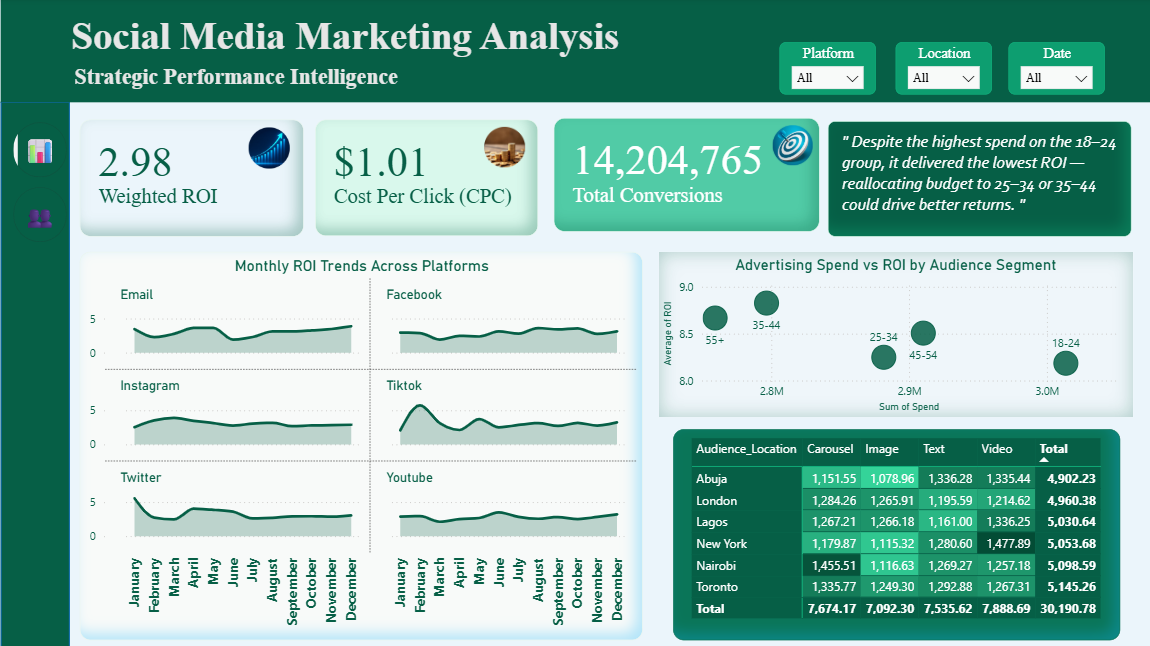

Layout of this report page (visuals, bound fields, positions):
{"tool":"powerbi","page":{"name":"📊","canvas":[1280,720],"ordinal":0},"visuals":[{"type":"shape","box":[11.5,116.3,76.1,604.3],"z":0},{"type":"group","id":"g1","title":"Group 1","box":[357.2,134.2,245.9,128.6],"z":0,"group":"g5"},{"type":"multiRowCard","fields":{"Values":["Sheet1.CPC_KPI"]},"box":[357.2,134.2,245.9,128.6],"z":0,"group":"g1"},{"type":"group","id":"g2","title":"Group 2","box":[620.3,134.2,292.7,125.5],"z":0,"group":"g6"},{"type":"group","id":"g3","title":"Group 1","box":[620.3,134.2,292.7,125.5],"z":0,"group":"g2"},{"type":"multiRowCard","fields":{"Values":["Sum(Sheet1.Conversions)"]},"box":[620.3,134.2,292.7,125.5],"z":0,"group":"g3"},{"type":"multiRowCard","fields":{"Values":["Sheet1.Weighted ROI"]},"box":[97.6,134.9,246.9,129.2],"z":0,"group":"g4"},{"type":"shape","box":[11.5,0,1268.9,116.3],"z":1000},{"type":"image","box":[856,134,54,60],"z":1000,"group":"g6"},{"type":"image","box":[538,134.2,55,60.8],"z":1000,"group":"g5"},{"type":"image","box":[279.1,134.9,55.2,62.8],"z":1000,"group":"g4"},{"type":"pageNavigator","box":[18.7,127.8,64.6,153.6],"z":2000},{"type":"textbox","box":[83.3,14.4,641.6,70.3],"z":3000},{"type":"textbox","box":[87.6,68.9,647.4,47.4],"z":4000},{"type":"slicer","title":"Platform","fields":{"Values":["Sheet1.Platform"]},"box":[868.4,50.2,106.2,57.4],"z":5000},{"type":"slicer","title":"Location","fields":{"Values":["Sheet1.Audience_Location"]},"box":[996.2,50.2,106.2,57.4],"z":6000},{"type":"slicer","title":"Date","fields":{"Values":["Calendar.Month"]},"box":[1119.6,50.2,106.2,57.4],"z":7000},{"type":"scatterChart","fields":{"X":["Sum(Sheet1.Spend)"],"Y":["Avg(Sheet1.ROI)"],"Category":["Sheet1.Audience_AgeGroup"]},"box":[734.9,281.3,522.5,182.3],"z":8000},{"type":"areaChart","fields":{"Category":["Calendar.Month"],"Y":["Sheet1.Weighted ROI"],"Rows":["Sheet1.Platform"]},"box":[97.6,281.3,620.1,427.8],"z":9000},{"type":"pivotTable","fields":{"Rows":["Sheet1.Audience_Location"],"Values":["Sum(Sheet1.CPC (USD))"],"Columns":["Sheet1.Post_Type"]},"box":[750.7,476.6,492.4,232.5],"z":10000},{"type":"group","id":"g4","title":"Group 1","box":[97.6,134.9,246.9,129.2],"z":11000},{"type":"group","id":"g5","title":"Group 2","box":[357.2,134.2,245.7,127.2],"z":12000},{"type":"group","id":"g6","title":"Group 3","box":[620.3,134,292.7,125.6],"z":13000},{"type":"textbox","box":[921.8,135.9,334.6,127.2],"z":14000}]}

Visuals, with their boxes on the page's 1280x720 design canvas (x1, y1, x2, y2). These are canvas units, not pixel positions in the 1150x646 screenshot, which may show the page scaled, cropped or inside an application window:
shape: detection(12, 116, 88, 721)
"Group 1" group: detection(357, 134, 603, 263)
multiRowCard - Sheet1.CPC_KPI: detection(357, 134, 603, 263)
"Group 2" group: detection(620, 134, 913, 260)
"Group 1" group: detection(620, 134, 913, 260)
multiRowCard - Sum(Sheet1.Conversions): detection(620, 134, 913, 260)
multiRowCard - Sheet1.Weighted ROI: detection(98, 135, 344, 264)
shape: detection(12, 0, 1280, 116)
image: detection(856, 134, 910, 194)
image: detection(538, 134, 593, 195)
image: detection(279, 135, 334, 198)
pageNavigator: detection(19, 128, 83, 281)
textbox: detection(83, 14, 725, 85)
textbox: detection(88, 69, 735, 116)
"Platform" slicer: detection(868, 50, 975, 108)
"Location" slicer: detection(996, 50, 1102, 108)
"Date" slicer: detection(1120, 50, 1226, 108)
scatterChart - Sum(Sheet1.Spend) x Avg(Sheet1.ROI): detection(735, 281, 1257, 464)
areaChart - Calendar.Month x Sheet1.Weighted ROI: detection(98, 281, 718, 709)
pivotTable - Sheet1.Audience_Location x Sum(Sheet1.CPC (USD)): detection(751, 477, 1243, 709)
"Group 1" group: detection(98, 135, 344, 264)
"Group 2" group: detection(357, 134, 603, 261)
"Group 3" group: detection(620, 134, 913, 260)
textbox: detection(922, 136, 1256, 263)
